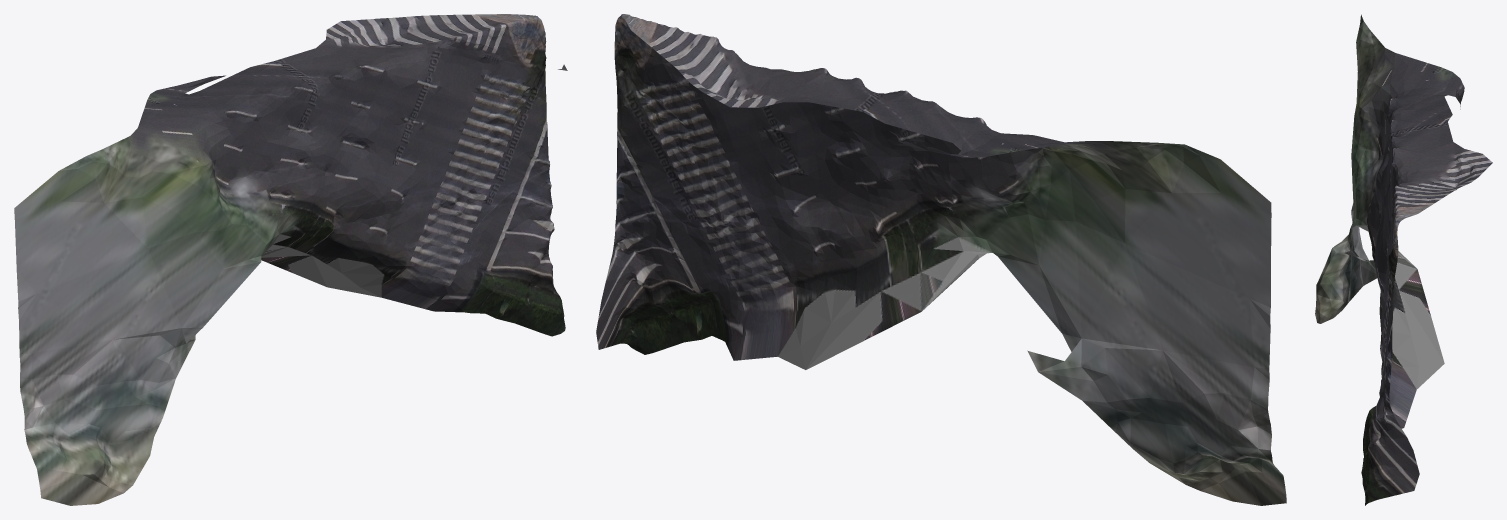
The model's file is Tile_+000_+003.obj.
The picture shows the model from 3 angles, left to right: view 1: azimuth 30°, elevation 25°; view 2: azimuth 150°, elevation 25°; view 3: azimuth 270°, elevation 25°; orthographic projection. The views are drawn at different scales.
Size of the model in its own units: 55.66 by 32.33 by 16.76.
1 material, 1 textured.
